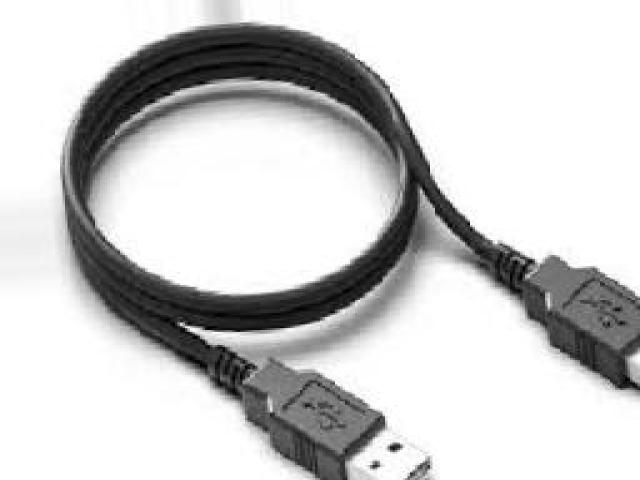wire: (62, 23, 640, 480)
